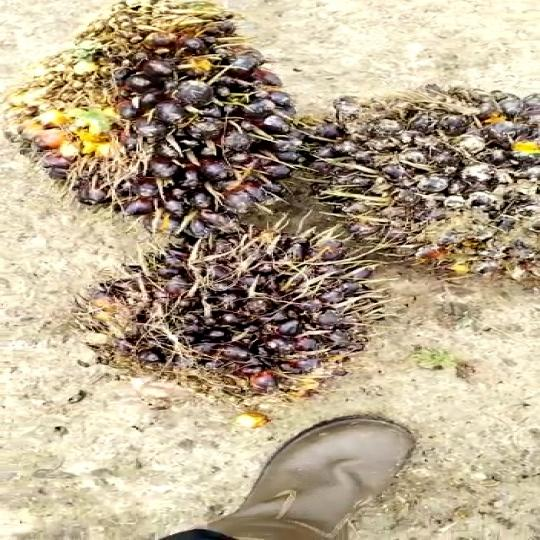mentah: (23, 0, 299, 232), (107, 219, 388, 404), (291, 86, 540, 284)
